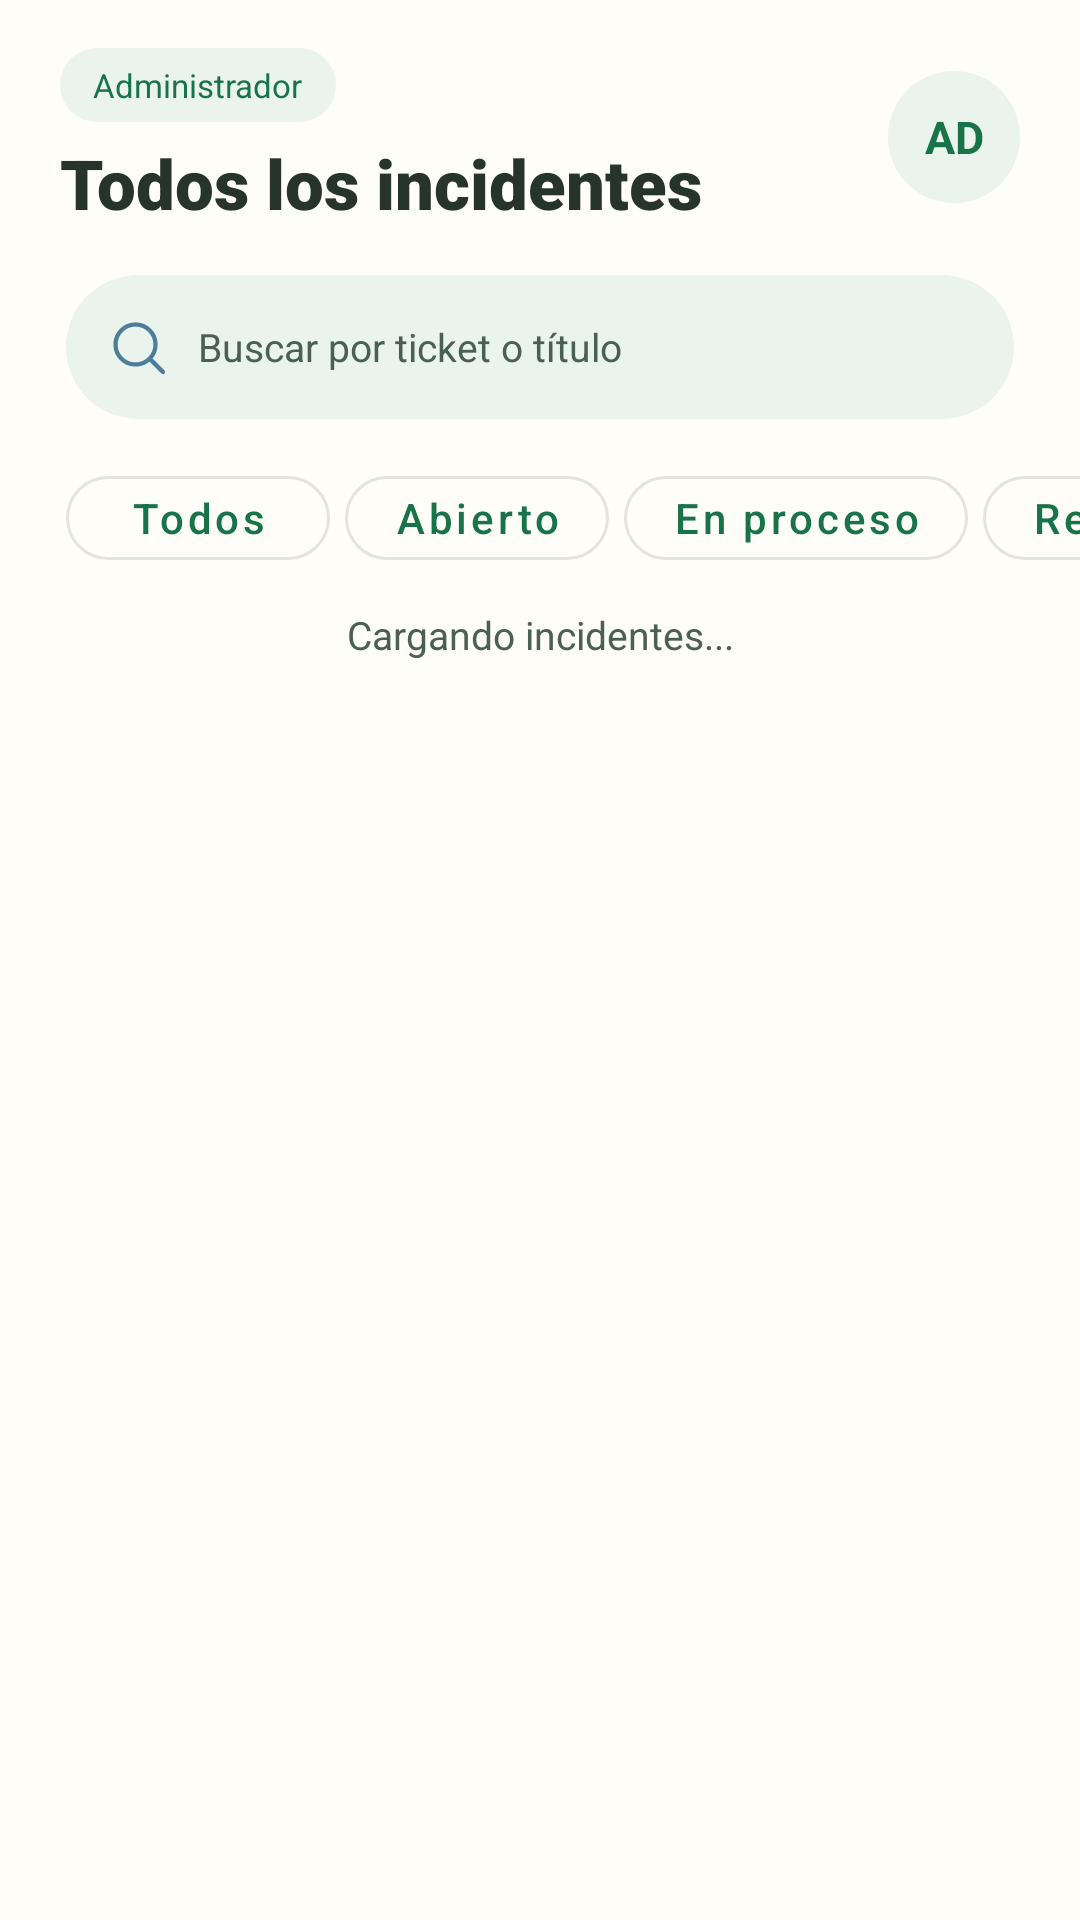

Where to tap for icons on this 1080px x 1920px app screen, as (x,y):
search simple: (139,348)
